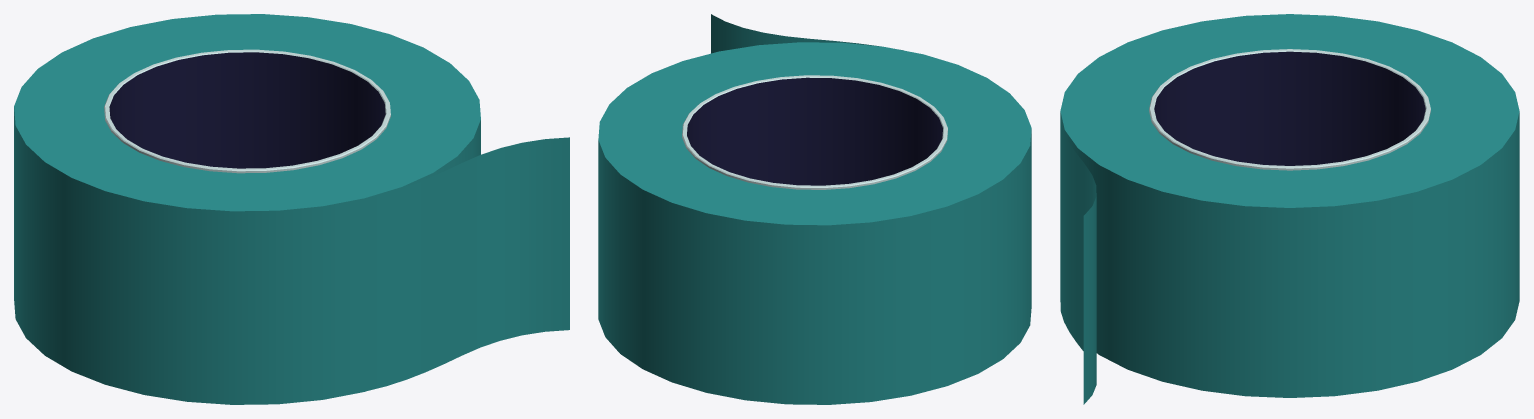
File: SM_Ducktape.FBX
3 views of the same model, side by side, from view 1: azimuth 30°, elevation 25°; view 2: azimuth 150°, elevation 25°; view 3: azimuth 270°, elevation 25° (orthographic). The views are drawn at different scales.
Visible parts, largest first — view 1: SM_Ducktape; view 2: SM_Ducktape; view 3: SM_Ducktape.
Part boxes in pixels (left/top/right/bottom): SM_Ducktape: left=14, top=14, right=569, bottom=404; SM_Ducktape: left=598, top=14, right=1031, bottom=404; SM_Ducktape: left=1060, top=14, right=1519, bottom=404.
Size of what is drawn, in the model's own units: 190 by 85.95 by 183.
